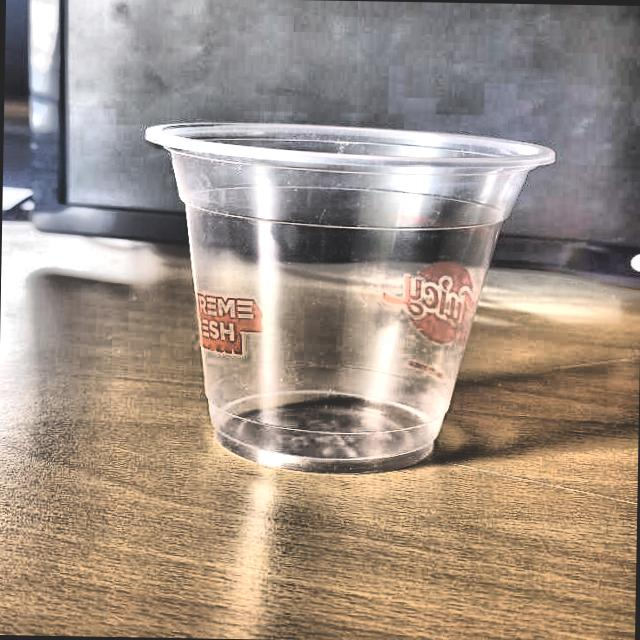plastic cup: (139, 116, 557, 479)
